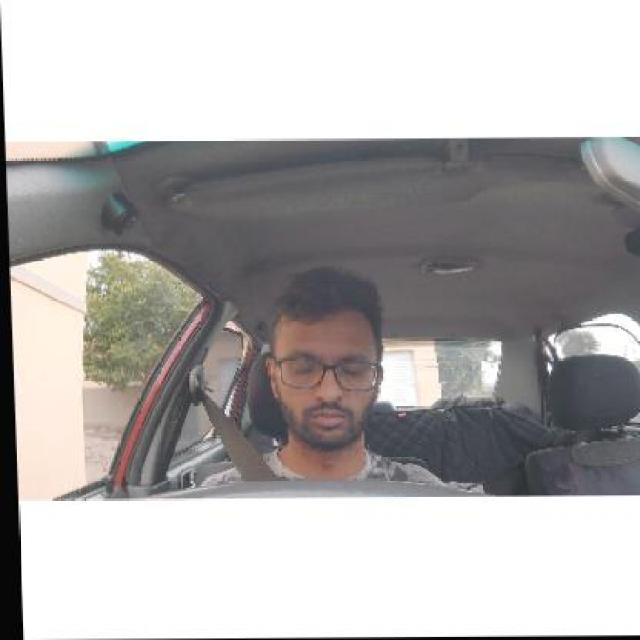drowsy: (272, 266, 394, 462)
